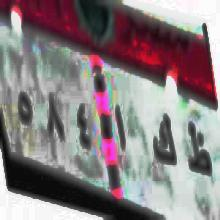4: (73, 99, 93, 165)
5: (17, 83, 33, 135)
8: (45, 92, 66, 155)
Thaa: (186, 117, 214, 192)
alif: (115, 101, 126, 158)
kaaf: (152, 107, 178, 181)
